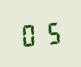five: (40, 20, 60, 45)
zero: (19, 21, 39, 47)
